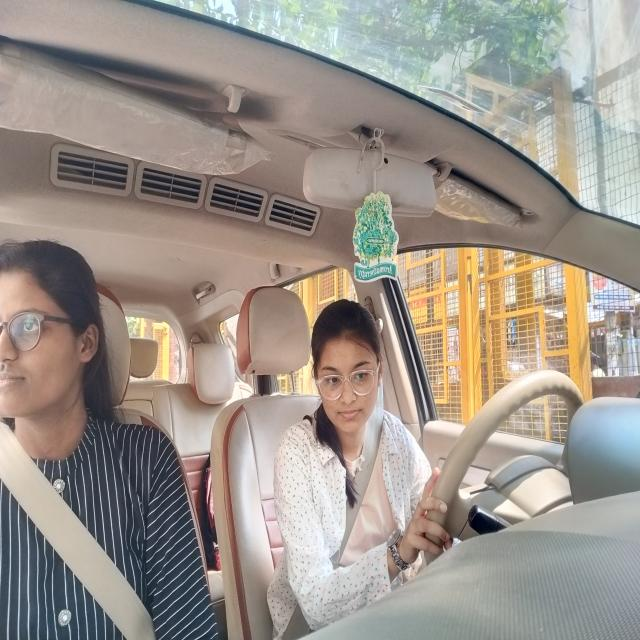person: (0, 216, 129, 478), (294, 276, 388, 464)
